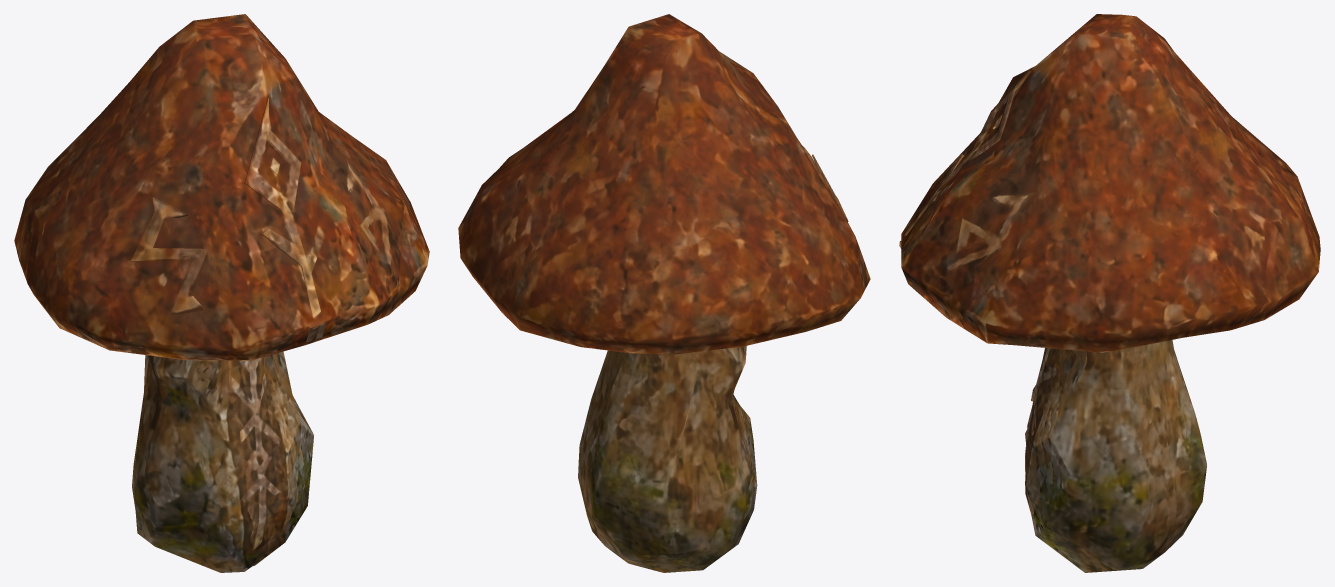
The model's file is Mushroom.glb.
3 renders of one model, left to right at view 1: azimuth 30°, elevation 25°; view 2: azimuth 150°, elevation 25°; view 3: azimuth 270°, elevation 25°, orthographic.
Visible parts, largest first — view 1: Mushroom; view 2: Mushroom; view 3: Mushroom.
Part boxes in pixels (x1,y1,x2,y2): Mushroom: [14, 14, 429, 572]; Mushroom: [458, 14, 870, 572]; Mushroom: [899, 14, 1320, 572].
Bounding box in the file's own units: 0.6841 × 0.9531 × 0.6743.
1 material, 1 textured.
